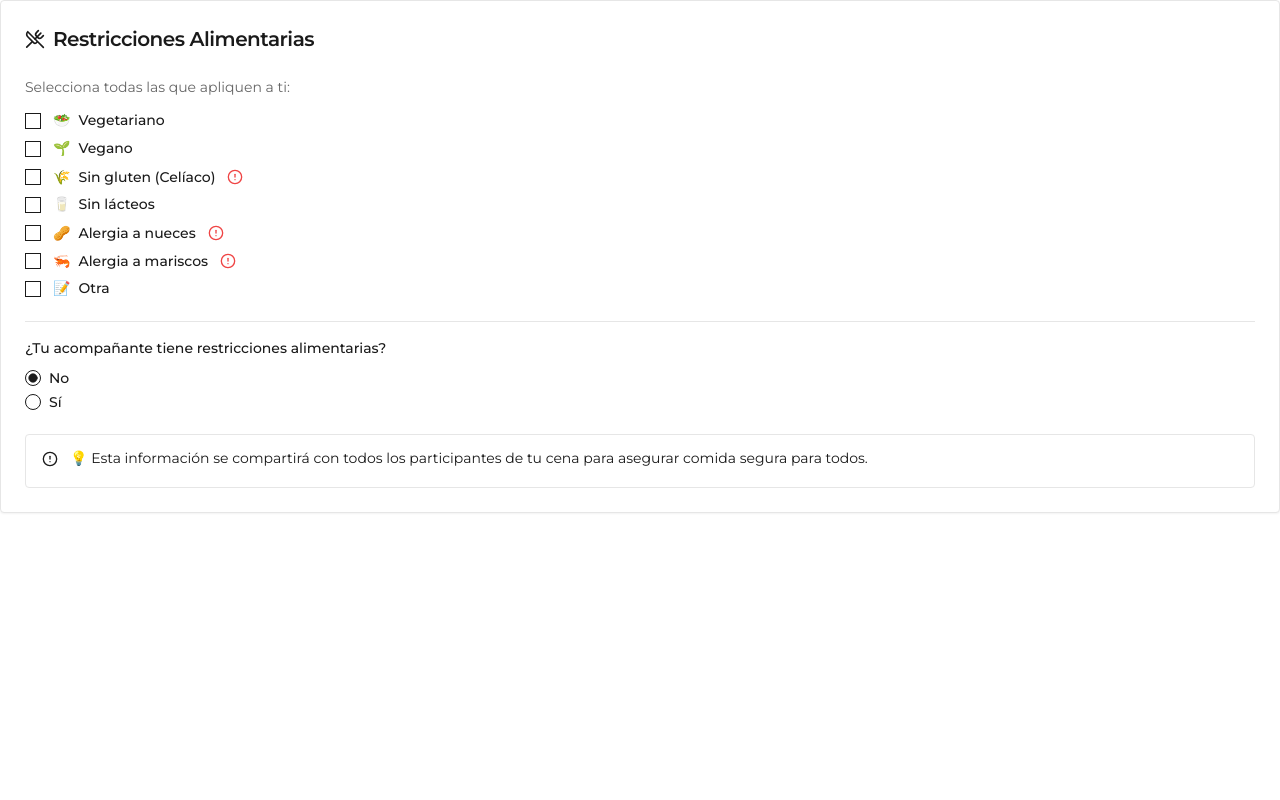
Test: DietaryRestrictionsForm › shows plus-one details when user selects "Sí"
The width and height of the screenshot is (1280, 800).
Click the radio button named "Sí" next to "Sí": [33, 402] box [25,394,41,410]
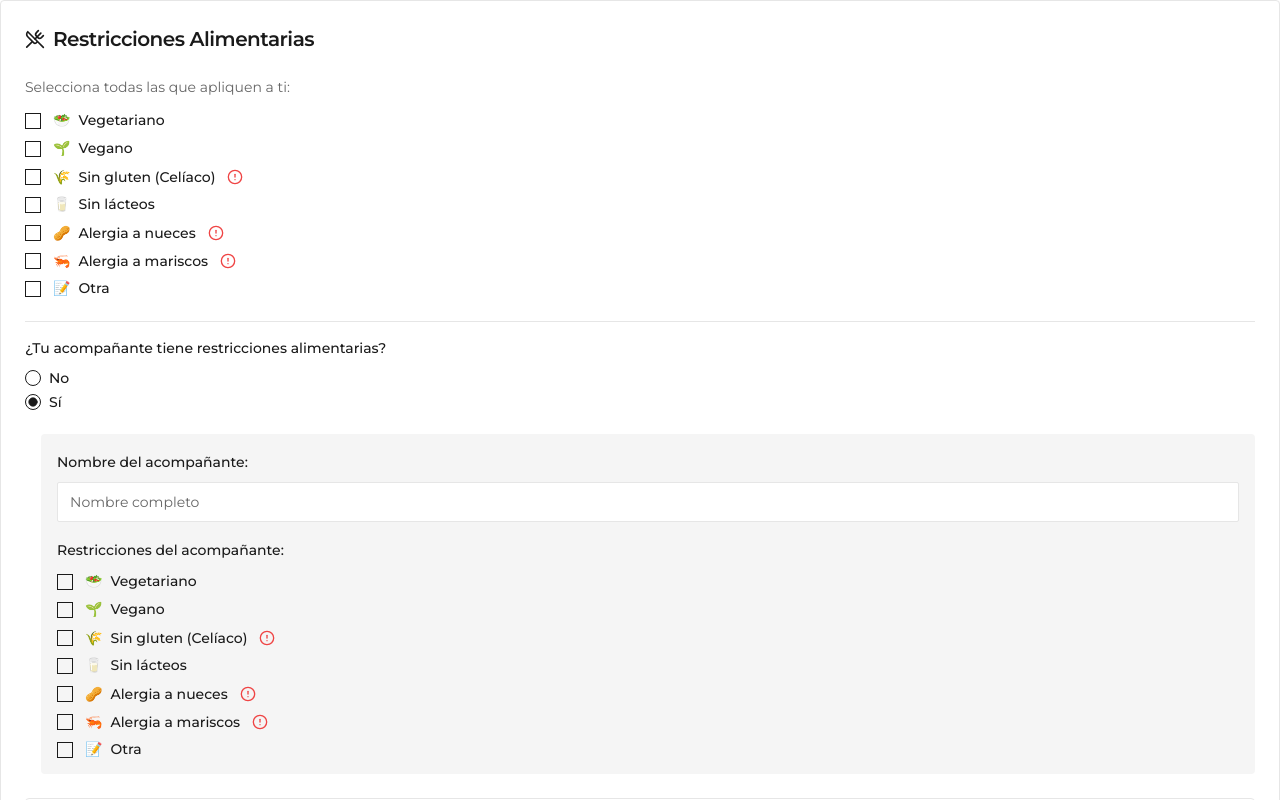
Result: the field labelled "Nombre del acompañante:" is shown at [57,482,1239,522]
Result: the text "Restricciones del acompañante:" is shown at [57,541,284,559]
